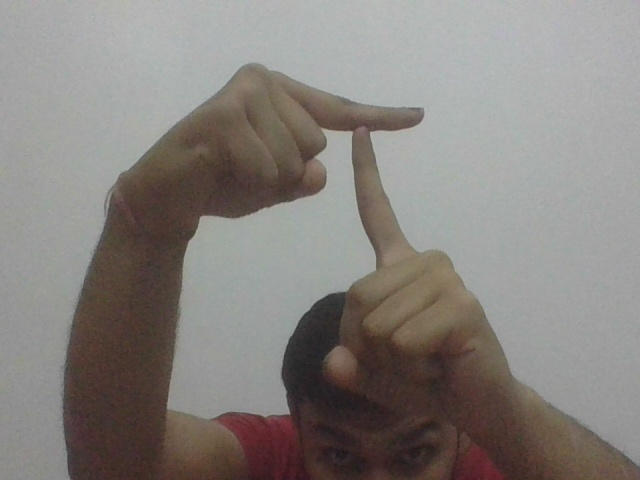T: (327, 87, 444, 251)
